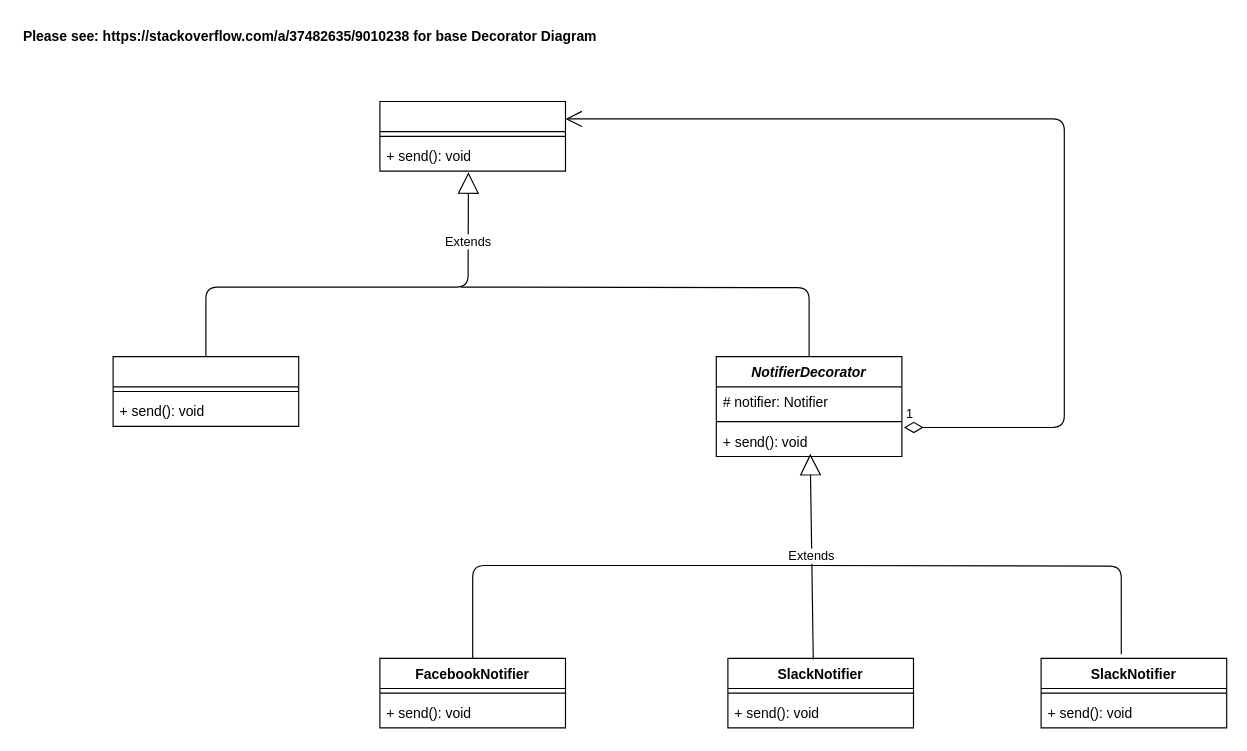
Some shapes in this 1247 by 751 pixel diagram are drawn without their labels. Here are the shapes that lost their labels. From the top down, the box of each, then its label:
(379, 100, 566, 171): Notifier
(112, 356, 299, 426): EmailNotifier
